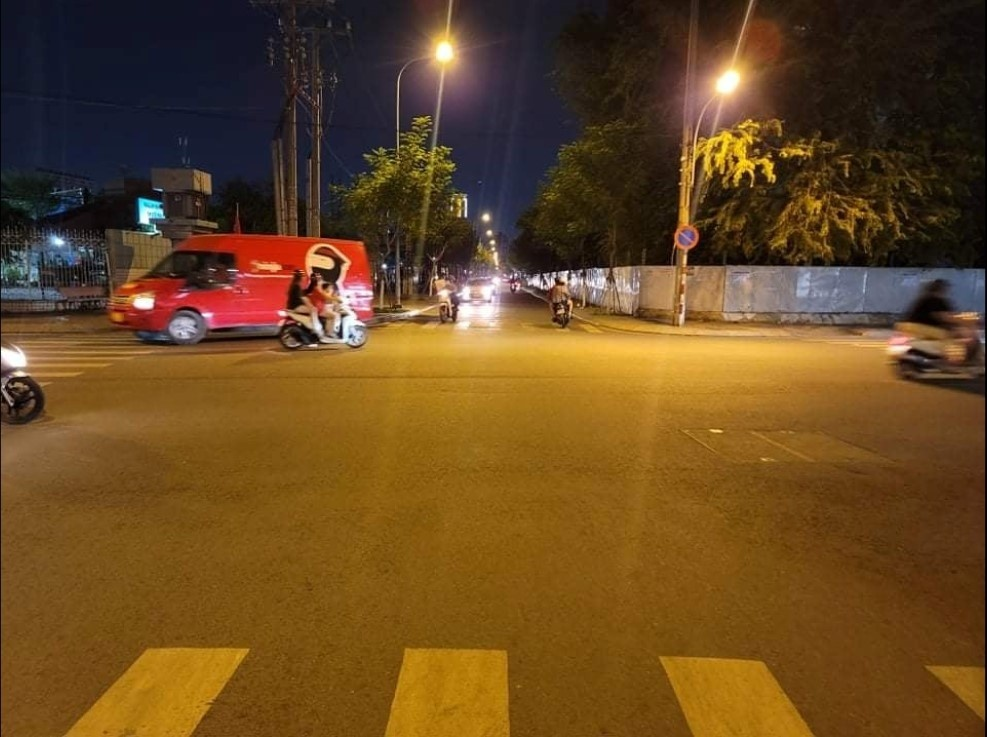Cam do xe: (674, 225, 698, 251)
